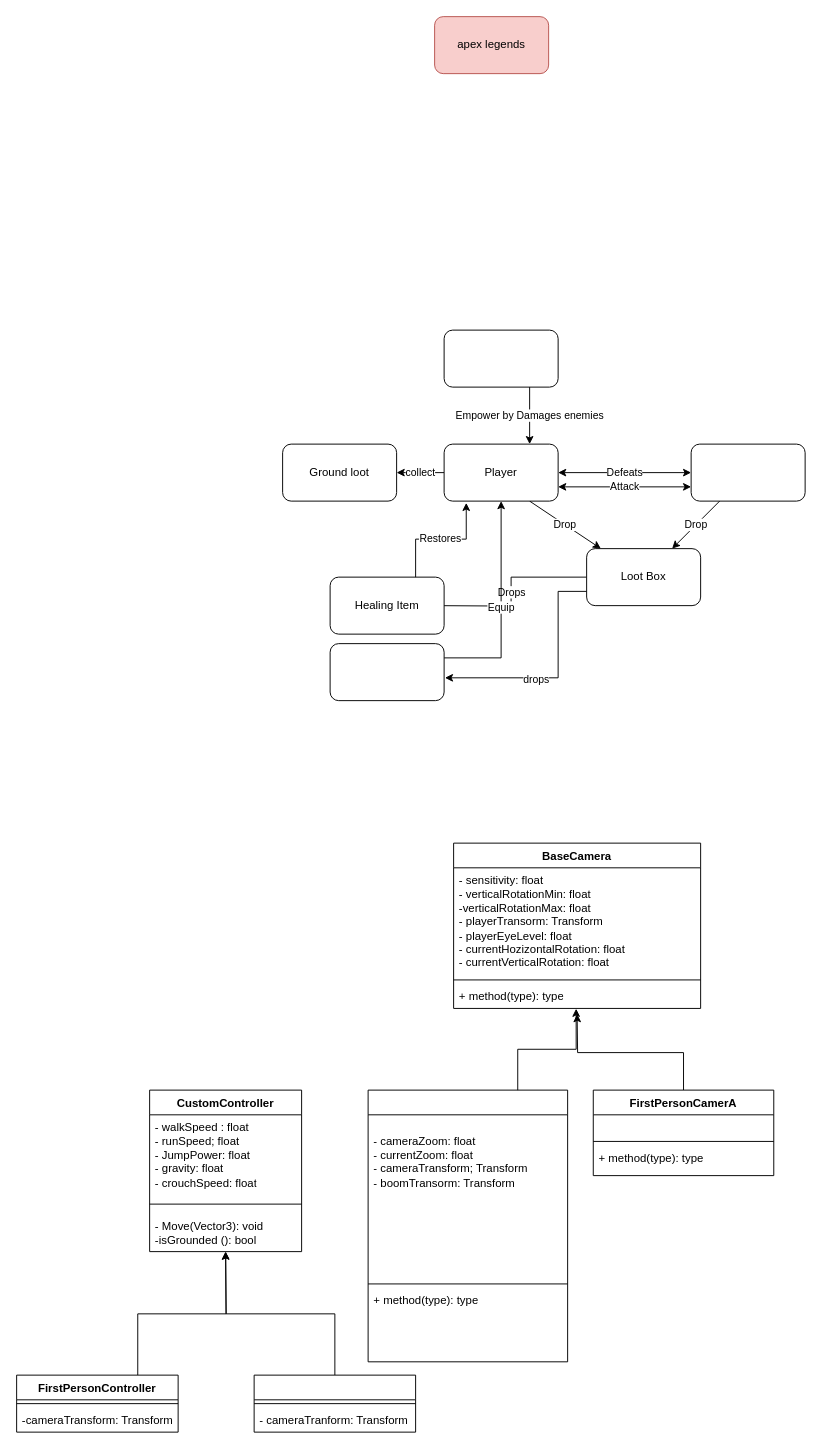
This 822x1452 diagram has some shape labels left out. The shapes that lost their labels are listed below. From the top down, each one's box as (x1, y1, x2, y2) in pixels, then its label:
(443, 329, 558, 387): Powerup Shield
(690, 443, 805, 501): Enemies Player
(329, 643, 444, 701): Gun
(367, 1089, 568, 1362): ThirdPersonCamera
(253, 1374, 416, 1432): ThirdPersonController
